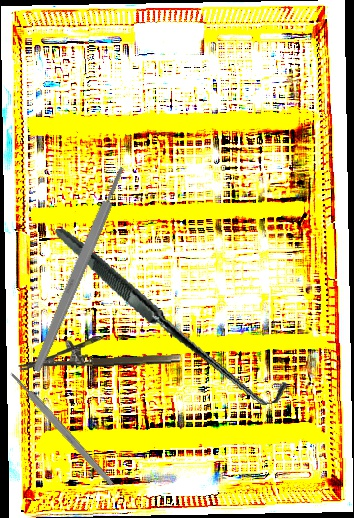Hook Surgical: (54, 194, 291, 436)
Needle Holder: (17, 333, 182, 370)
Scalpel Handle: (30, 165, 129, 374), (8, 369, 116, 489)
